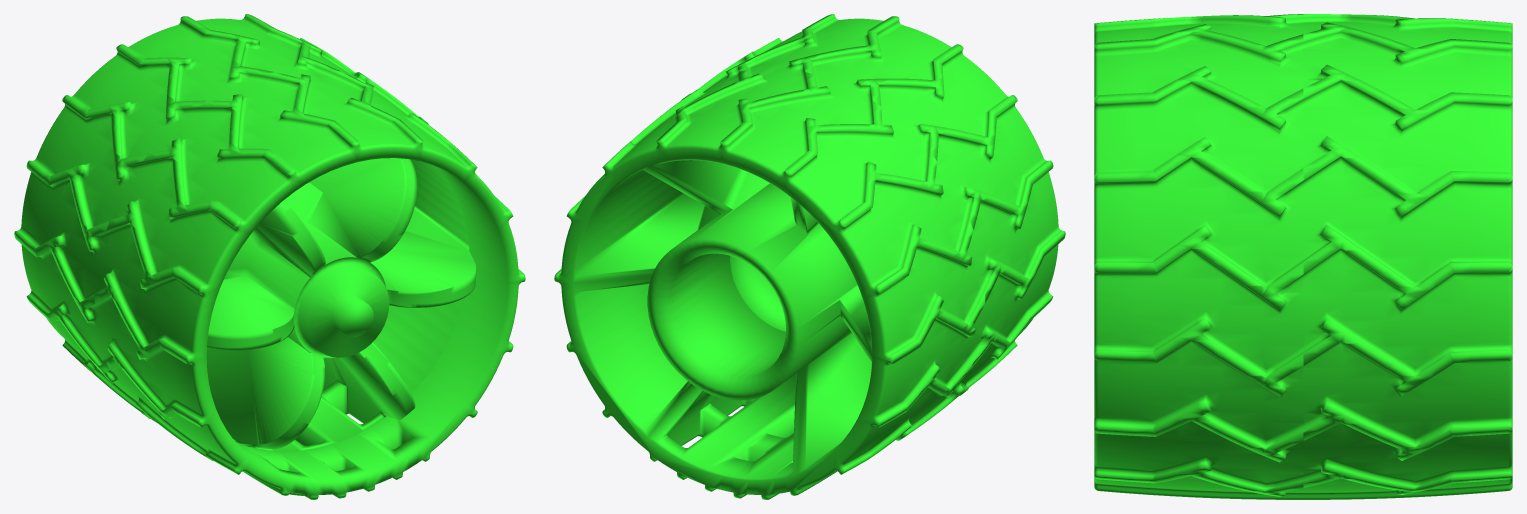
Rendered from Wheelsmall.obj.
3 views of the same model, side by side, from view 1: azimuth 30°, elevation 25°; view 2: azimuth 150°, elevation 25°; view 3: azimuth 270°, elevation 25° (orthographic). The views are drawn at different scales.
Parts seen in each view (by area): view 1: Wheelsmall; view 2: Wheelsmall; view 3: Wheelsmall.
Boxes of the visible parts, x1,y1,x2,y2 form: Wheelsmall: [14, 14, 525, 499]; Wheelsmall: [554, 14, 1065, 499]; Wheelsmall: [1094, 14, 1512, 499].
Size of the model in its own units: 1 by 1 by 0.8623.
